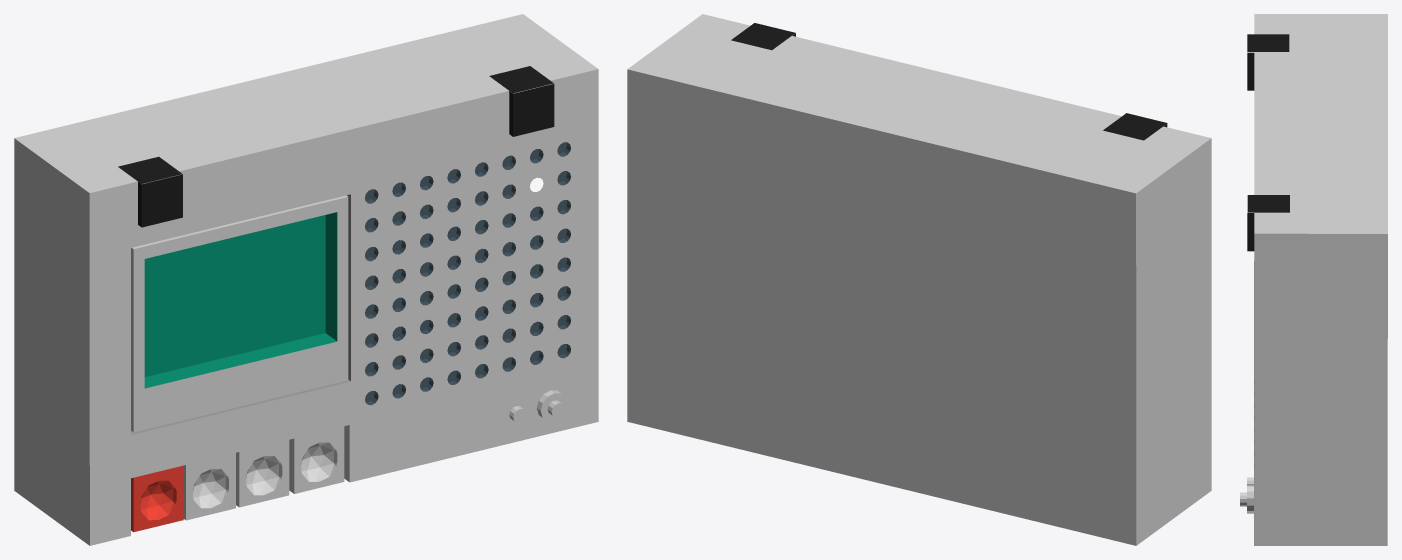
File: casette.gltf
3 views of the same model, side by side, from view 1: azimuth 30°, elevation 25°; view 2: azimuth 150°, elevation 25°; view 3: azimuth 270°, elevation 25° (orthographic). The views are drawn at different scales.
Parts seen in each view (by area): view 1: Node; view 2: Node; view 3: Node.
Part boxes in pixels (left/top/right/bottom): Node: left=14, top=14, right=598, bottom=545; Node: left=627, top=14, right=1211, bottom=545; Node: left=1240, top=14, right=1387, bottom=545.
Bounding box in the file's own units: 0.74 × 0.4908 × 0.2104.
